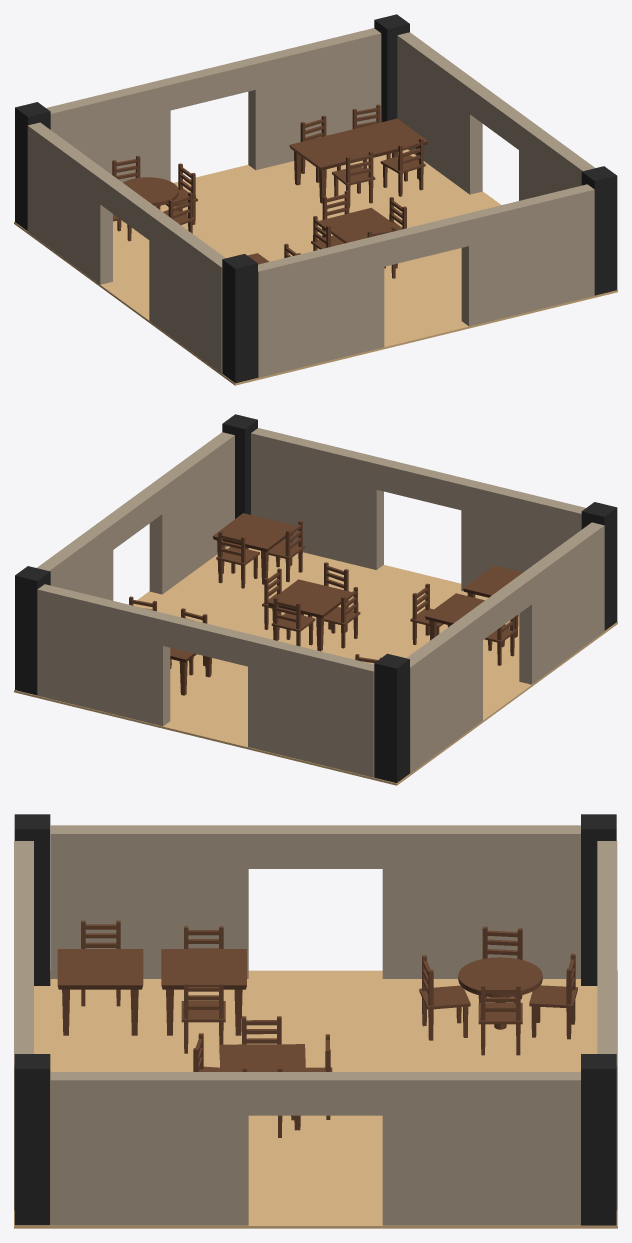
The model's file is diningarea.fbx.
3 renders of one model, top to bottom at view 1: azimuth 30°, elevation 25°; view 2: azimuth 150°, elevation 25°; view 3: azimuth 270°, elevation 25°, orthographic. The views are drawn at different scales.
Parts seen in each view (by area): view 1: pCube17, polySurface420; view 2: pCube17, polySurface420; view 3: pCube17, polySurface420.
Boxes of the visible parts, x1,y1,x2,y2 form: pCube17: [14, 14, 617, 385]; polySurface420: [112, 104, 428, 278]; pCube17: [14, 414, 617, 785]; polySurface420: [129, 513, 522, 695]; pCube17: [14, 814, 617, 1228]; polySurface420: [57, 920, 577, 1137].
Size of the model in its own units: 200 by 58.06 by 200.
